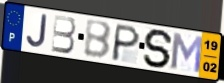B: (83, 19, 113, 61), (50, 14, 77, 55)
J: (25, 13, 49, 49)
M: (170, 31, 204, 75)
P: (109, 23, 142, 63)
S: (142, 28, 175, 70)
